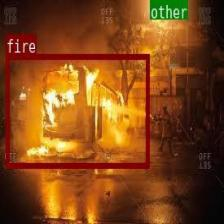fire: (5, 52, 149, 167)
